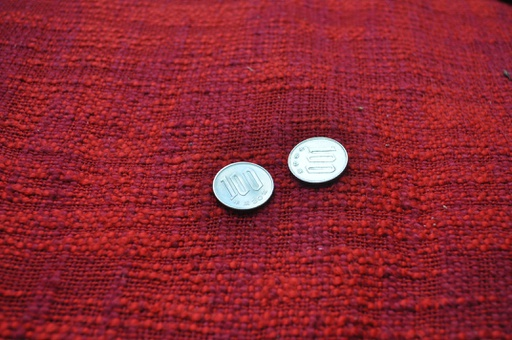100yen: (214, 163, 273, 212), (289, 138, 347, 185)
